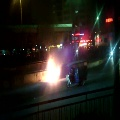fire: (41, 59, 60, 83)
